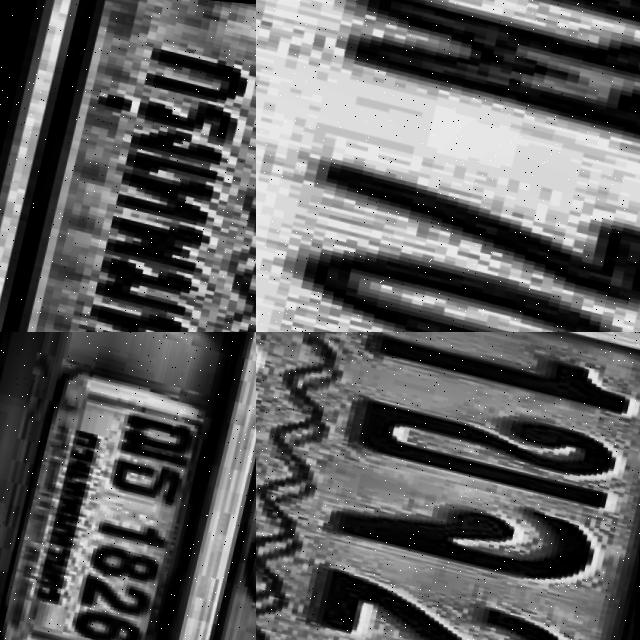license-plate: (256, 0, 640, 332), (256, 332, 640, 640), (0, 0, 256, 332), (0, 332, 255, 640)
